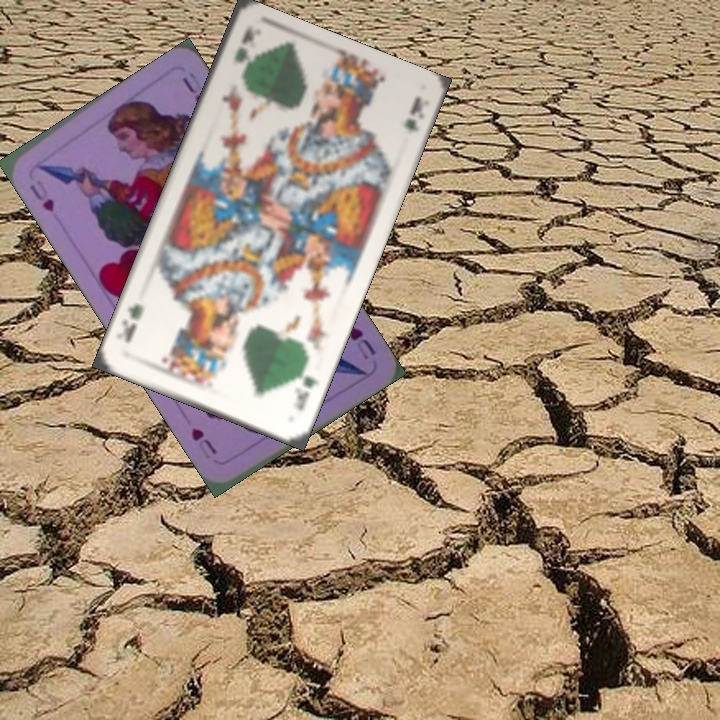GK: (289, 360, 322, 414), (231, 25, 257, 65)
HU: (345, 323, 379, 363), (25, 180, 58, 215)
